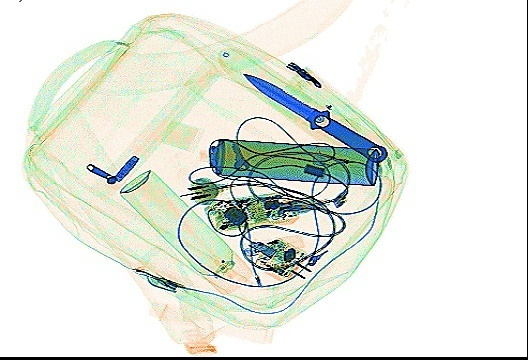knife: (240, 71, 388, 163)
lighter: (238, 231, 305, 259), (308, 148, 372, 177)
pressure: (117, 168, 254, 296), (197, 135, 381, 187)
